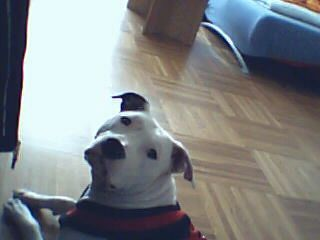dogo_argentino: (2, 90, 207, 240)
